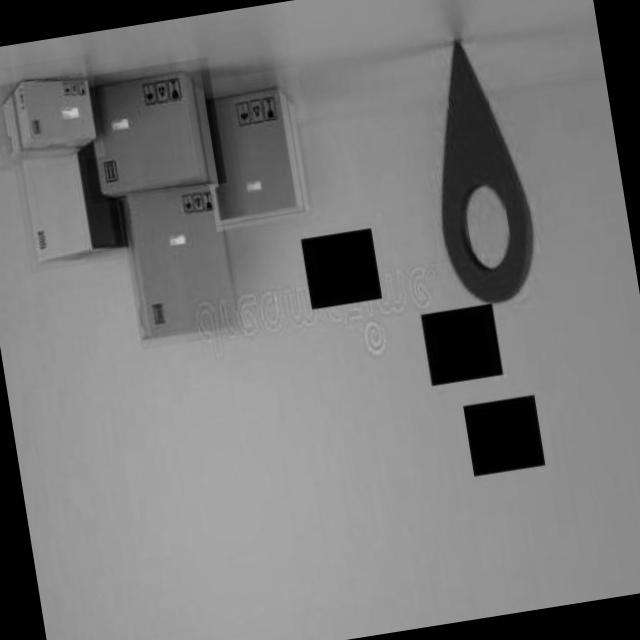box: (72, 57, 227, 204), (117, 176, 245, 350), (194, 66, 320, 232), (12, 136, 126, 274), (0, 54, 105, 172)
